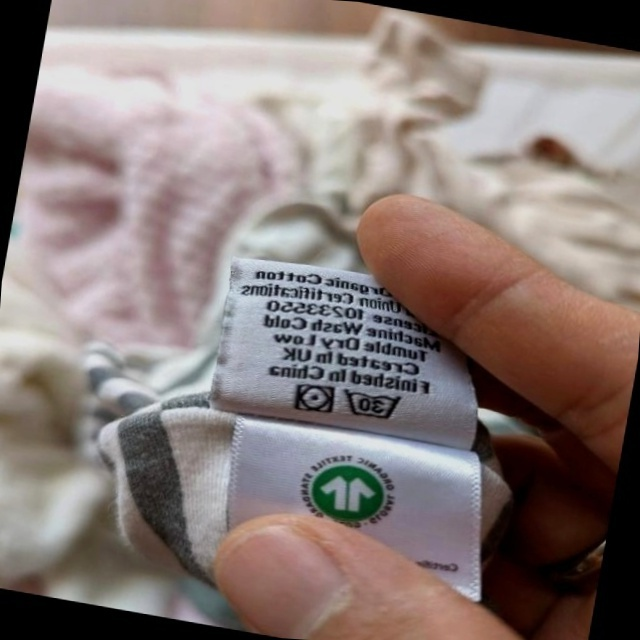30C: (337, 382, 408, 427)
tumble_dry_low: (289, 377, 339, 420)
